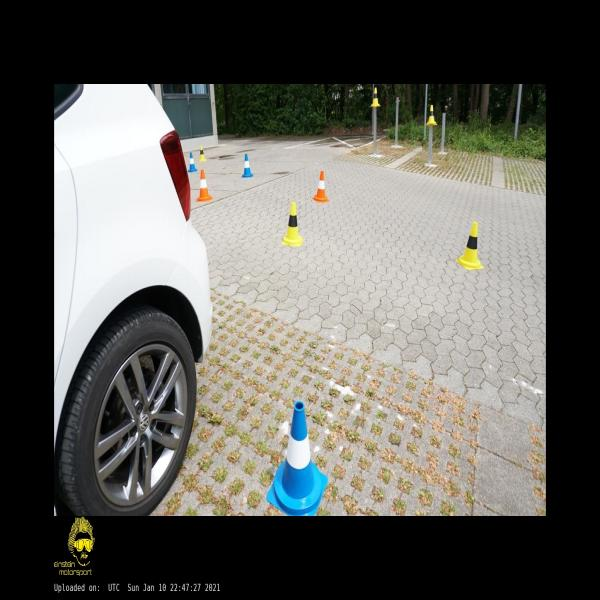blue_cone: (266, 401, 327, 515), (242, 153, 253, 178), (188, 152, 197, 172)
orange_cone: (312, 170, 328, 203), (196, 169, 212, 202)
yellow_cone: (456, 222, 484, 270), (282, 202, 303, 246), (425, 105, 438, 125), (370, 87, 381, 106), (199, 146, 206, 162)
